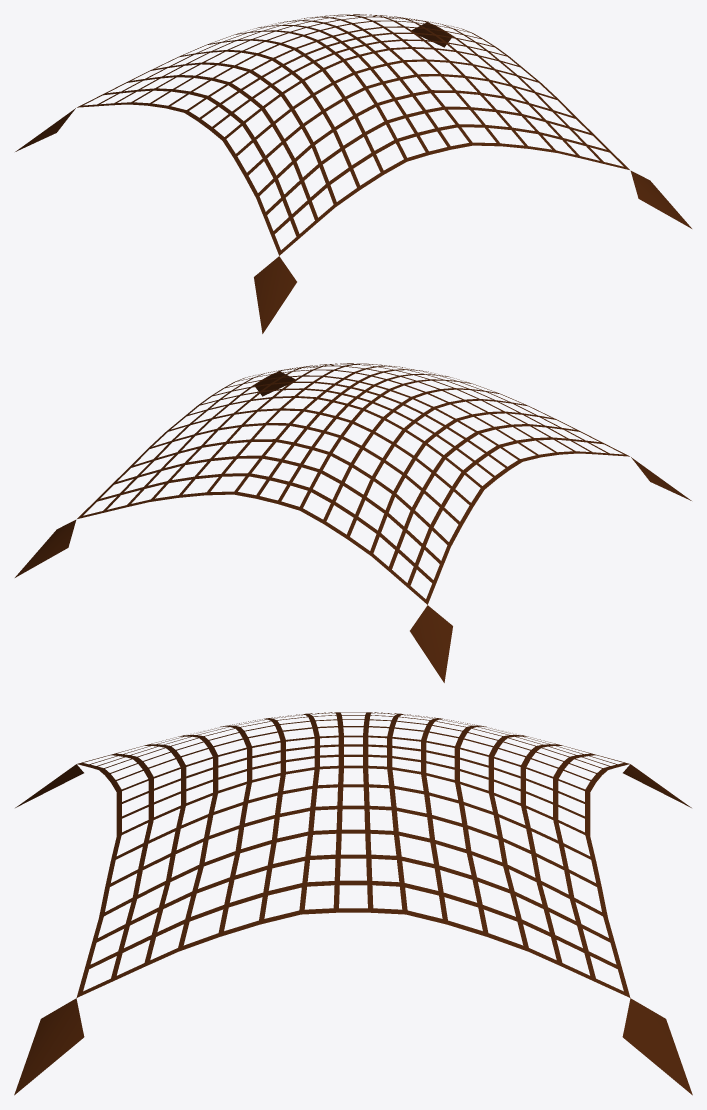
The model's file is Net.fbx.
3 renders of one model, top to bottom at view 1: azimuth 30°, elevation 25°; view 2: azimuth 150°, elevation 25°; view 3: azimuth 270°, elevation 25°, orthographic. The views are drawn at different scales.
Parts seen in each view (by area): view 1: Net; view 2: Net; view 3: Net.
Part boxes in pixels (x1,y1,x2,y2): Net: (15,14,691,333); Net: (15,363,691,682); Net: (14,712,692,1095).
Size of the model in its own units: 2.32 by 0.7612 by 2.32.
